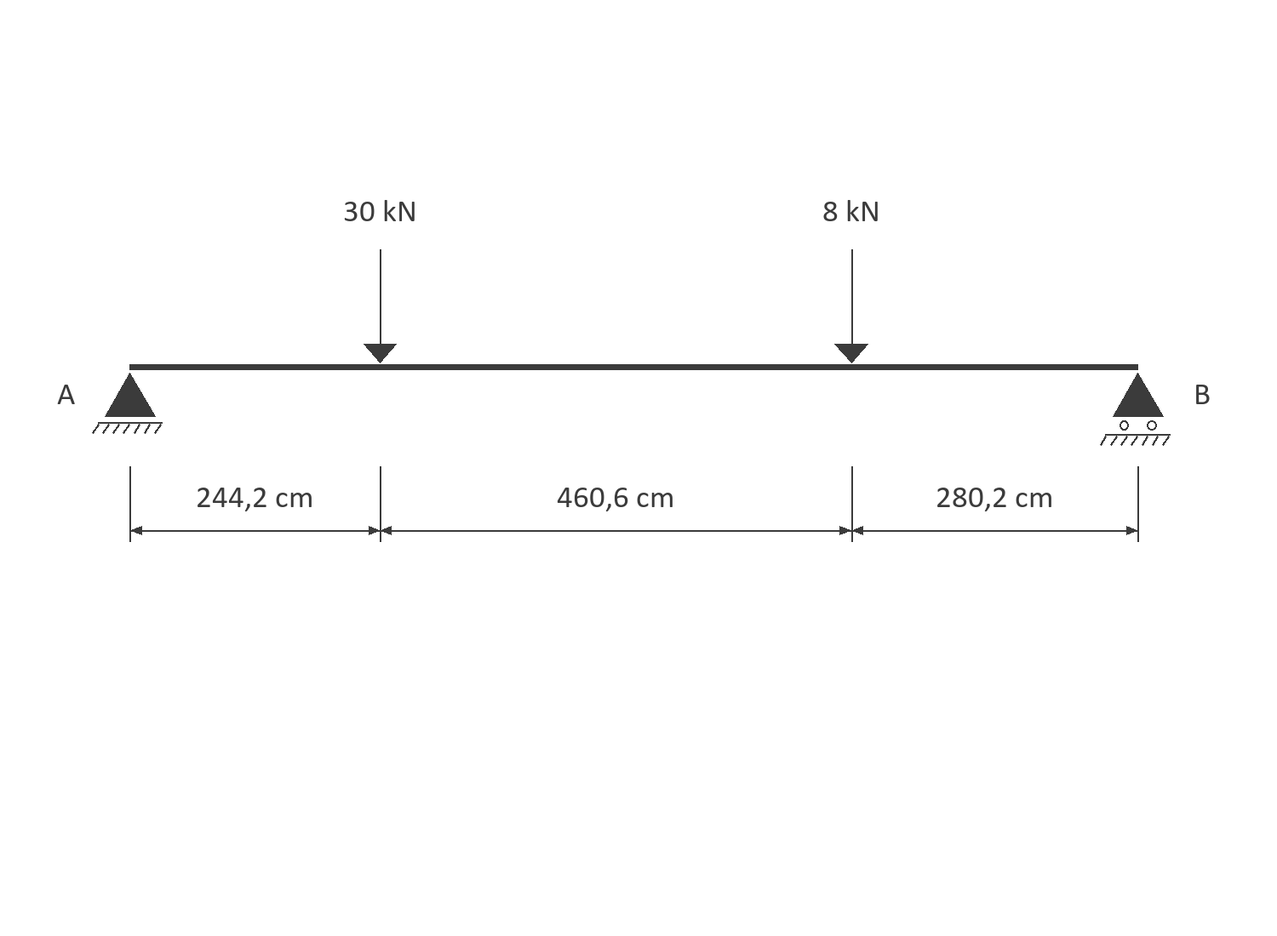pin_support: (92, 373, 163, 434)
point_load: (834, 249, 868, 363), (364, 249, 397, 363)
roller_support: (1100, 373, 1171, 446)
